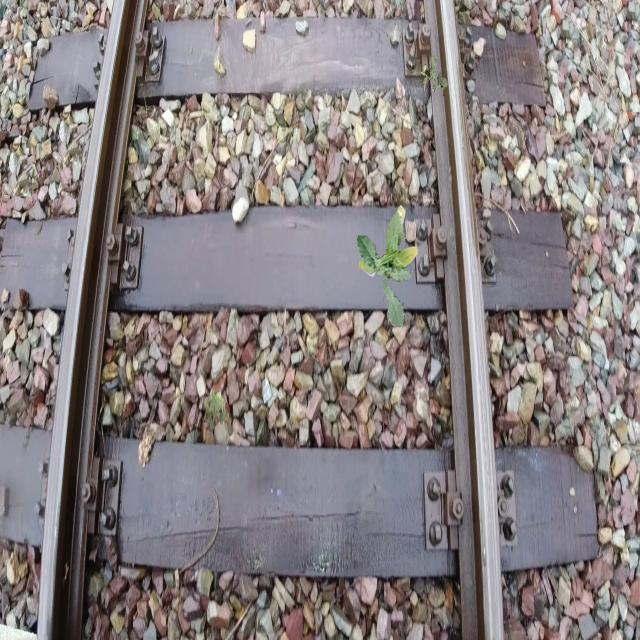Plant: (356, 204, 418, 328), (420, 55, 448, 96), (204, 388, 230, 430)
